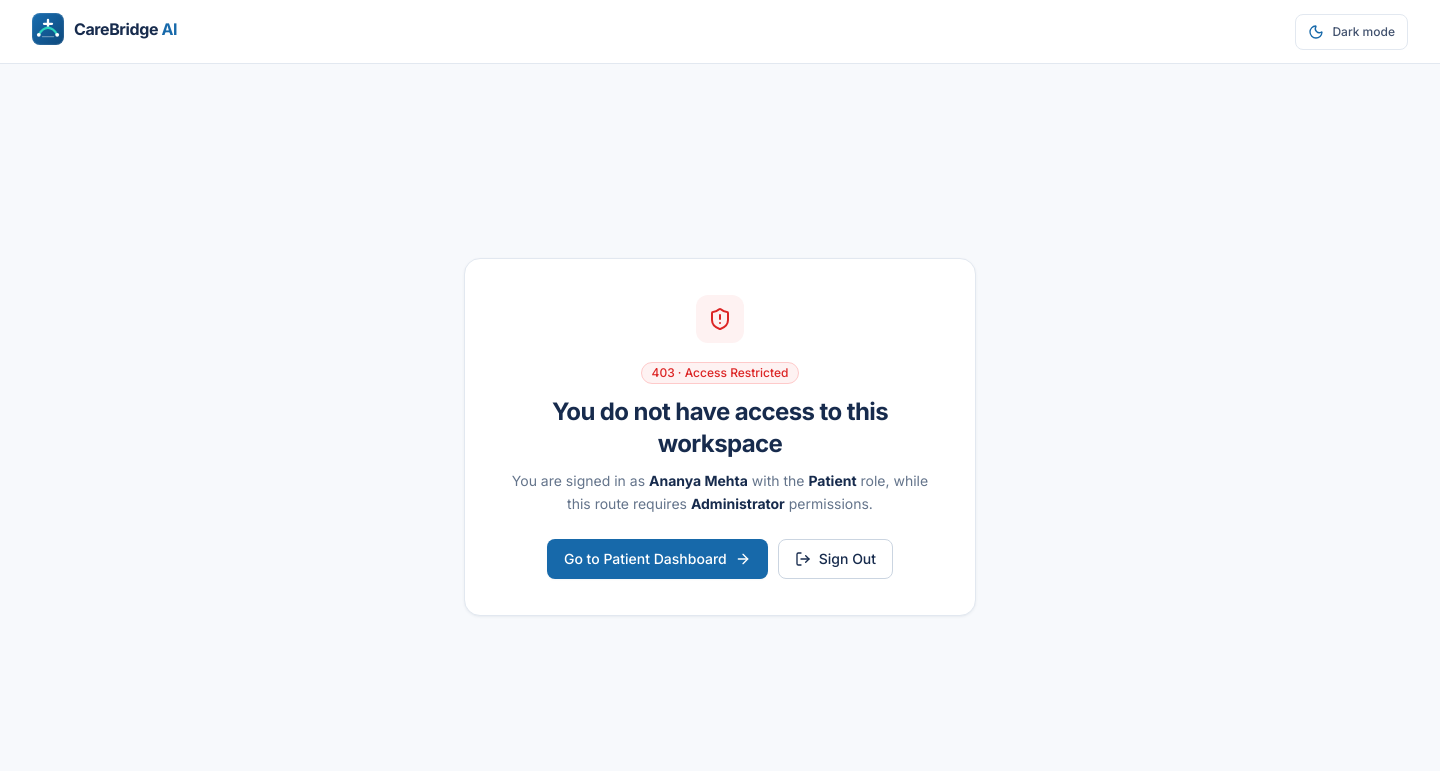
Test: CareBridge AI — Frontend Authentication, RBAC & UI Suite › enforces role-based guards for PATIENT, DOCTOR, and ADMIN across workspaces
The image size is (1440, 771).
Later steps or results of the test are not shown.
Expected: the heading "You do not have access to this workspace" is shown, top-left (552, 397), bottom-right (888, 458)
Click the button "Go to Patient Dashboard" at (657, 559), box top-left (547, 539), bottom-right (768, 579)
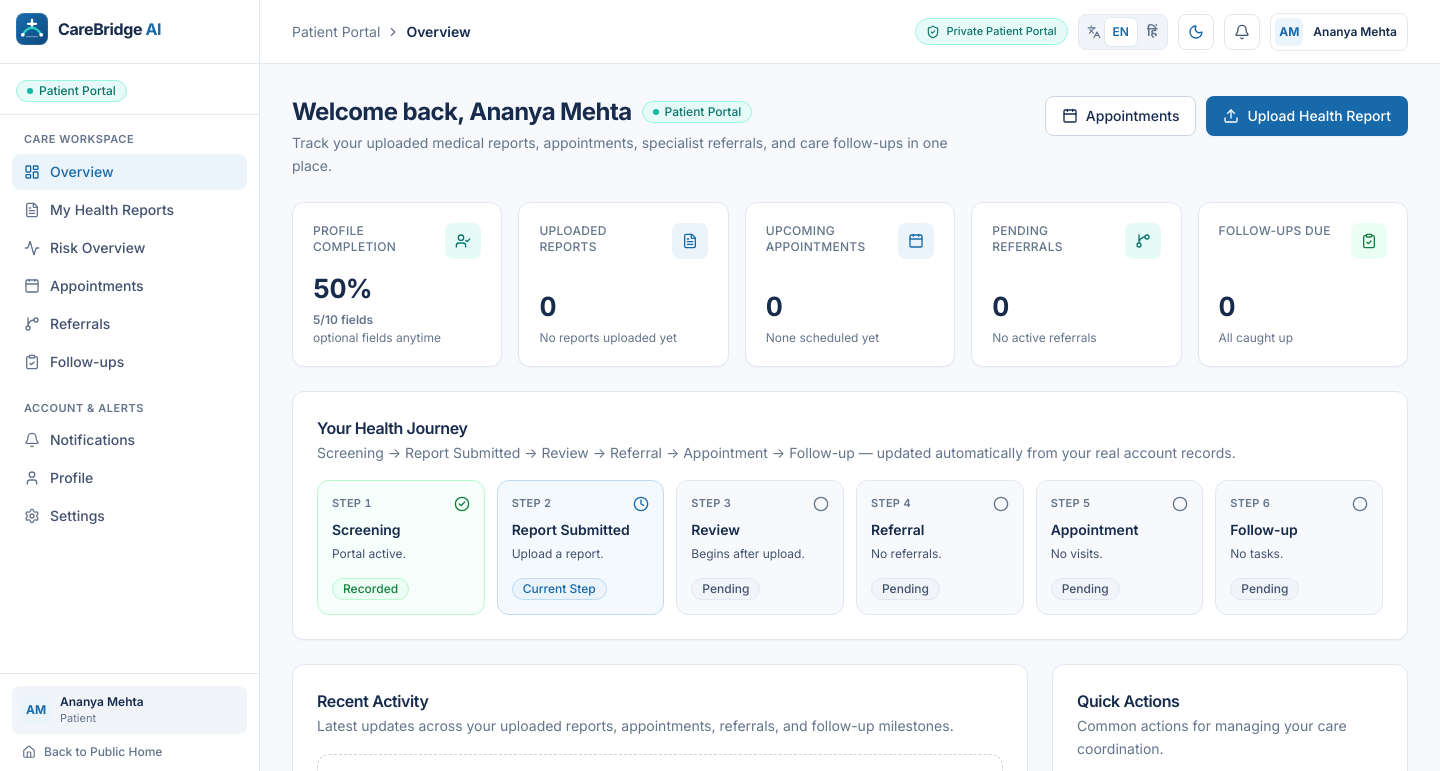
Expected: the heading "Welcome back, Ananya Mehta" is shown, top-left (292, 96), bottom-right (632, 128)
